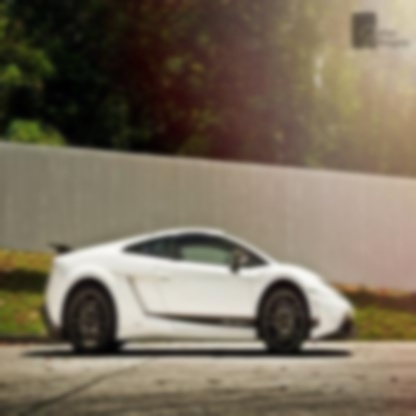Vehicle: (46, 231, 356, 352)
